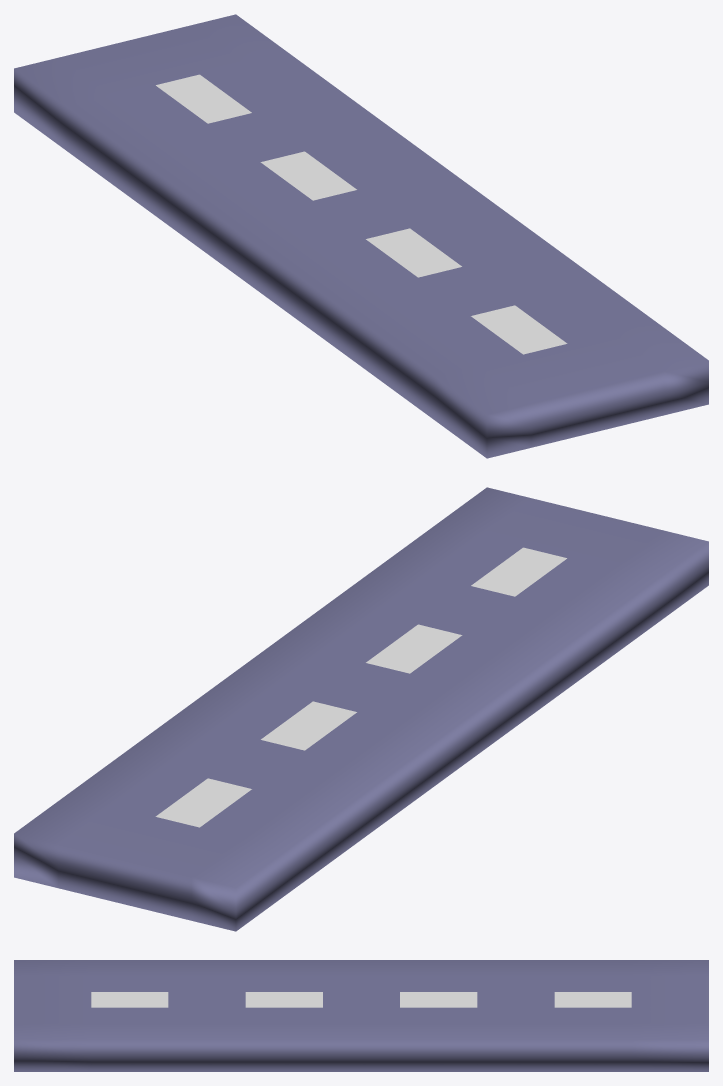
The model's file is Pista1.fbx.
3 renders of one model, top to bottom at view 1: azimuth 30°, elevation 25°; view 2: azimuth 150°, elevation 25°; view 3: azimuth 270°, elevation 25°, orthographic. The views are drawn at different scales.
Visible parts, largest first — view 1: Cube; view 2: Cube; view 3: Cube.
Boxes of the visible parts, bbox=[...] form: Cube: bbox=[14, 14, 708, 458]; Cube: bbox=[14, 487, 708, 931]; Cube: bbox=[14, 960, 708, 1071].
Bounding box in the file's own units: 889 × 168 × 3279.
